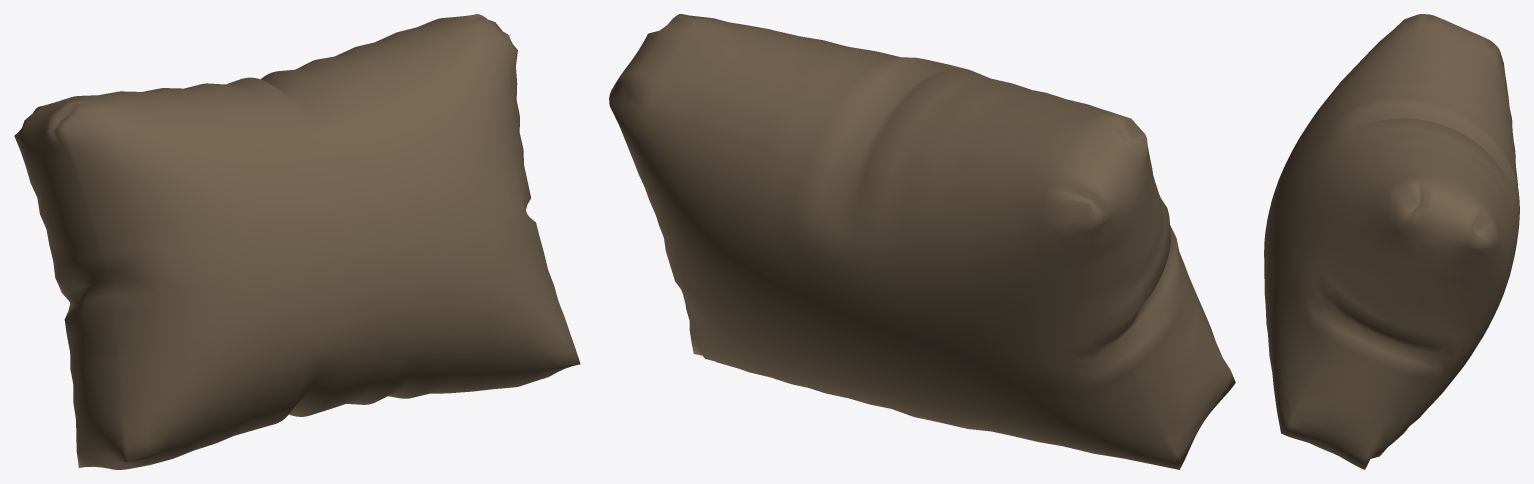
File: coussin1.glb
3 renders of one model, left to right at view 1: azimuth 30°, elevation 25°; view 2: azimuth 150°, elevation 25°; view 3: azimuth 270°, elevation 25°, orthographic. The views are drawn at different scales.
Visible parts, largest first — view 1: Coussin.001; view 2: Coussin.001; view 3: Coussin.001.
Part boxes in pixels (<box>): Coussin.001: <box>14,14,580,469</box>; Coussin.001: <box>609,14,1235,469</box>; Coussin.001: <box>1264,14,1519,469</box>.
Size of the model in its own units: 4.93 by 3.45 by 2.81.
